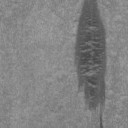oxide scale of plate system: (74, 0, 107, 128)
